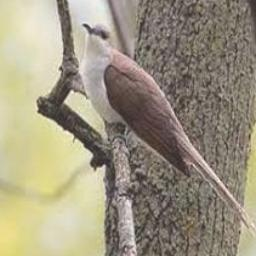Cuckoo: (83, 21, 256, 239)
